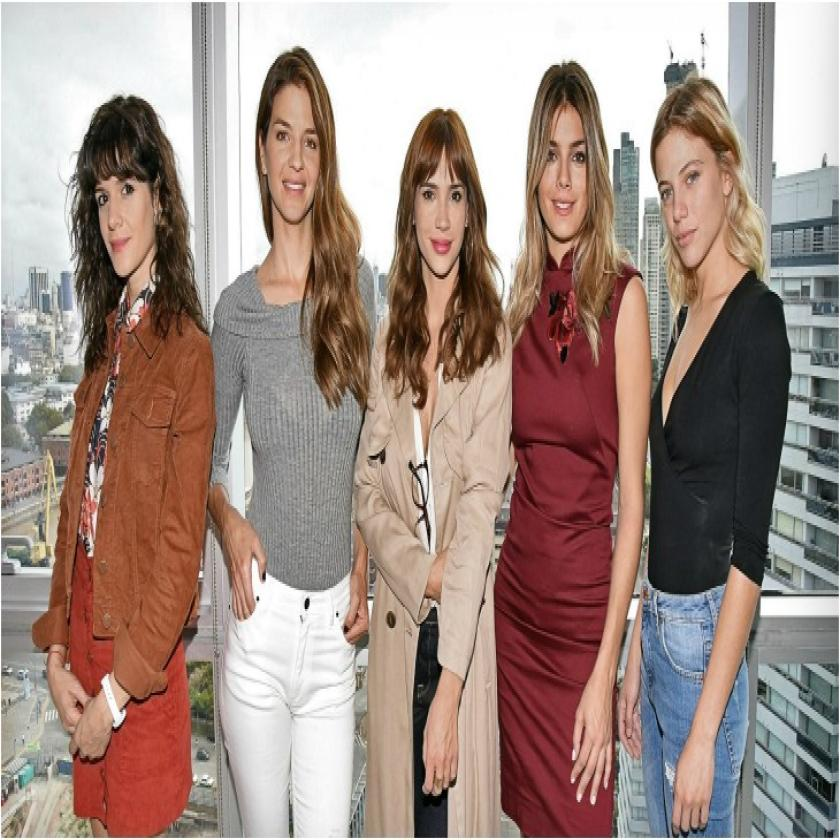Sin_casco: (74, 90, 176, 294), (648, 75, 745, 284), (257, 37, 339, 245), (529, 52, 607, 257), (410, 94, 484, 273)
